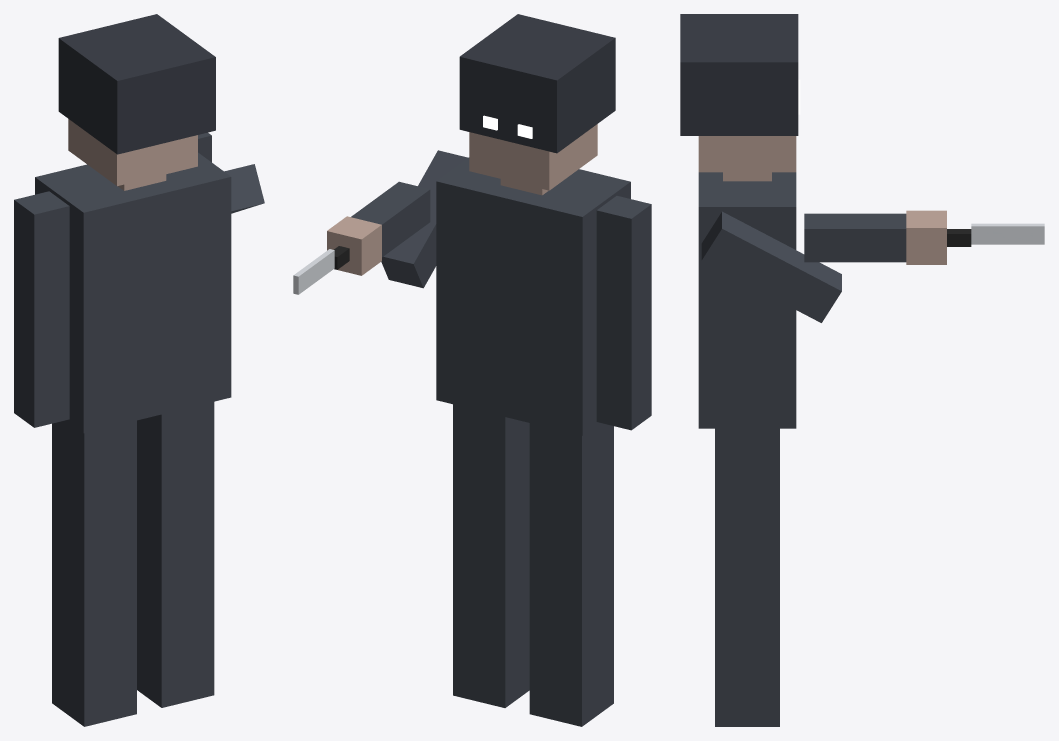
Rendered from enemigo_cuchillo.glb.
3 renders of one model, left to right at view 1: azimuth 30°, elevation 25°; view 2: azimuth 150°, elevation 25°; view 3: azimuth 270°, elevation 25°, orthographic.
Parts seen in each view (by area): view 1: Enemigo_Cuchillo; view 2: Enemigo_Cuchillo; view 3: Enemigo_Cuchillo.
Boxes of the visible parts, x1=… form: Enemigo_Cuchillo: x1=14, y1=14, x2=264, y2=726; Enemigo_Cuchillo: x1=293, y1=14, x2=651, y2=726; Enemigo_Cuchillo: x1=680, y1=14, x2=1044, y2=726.
Bounding box in the file's own units: 0.62 × 1.78 × 0.895.
